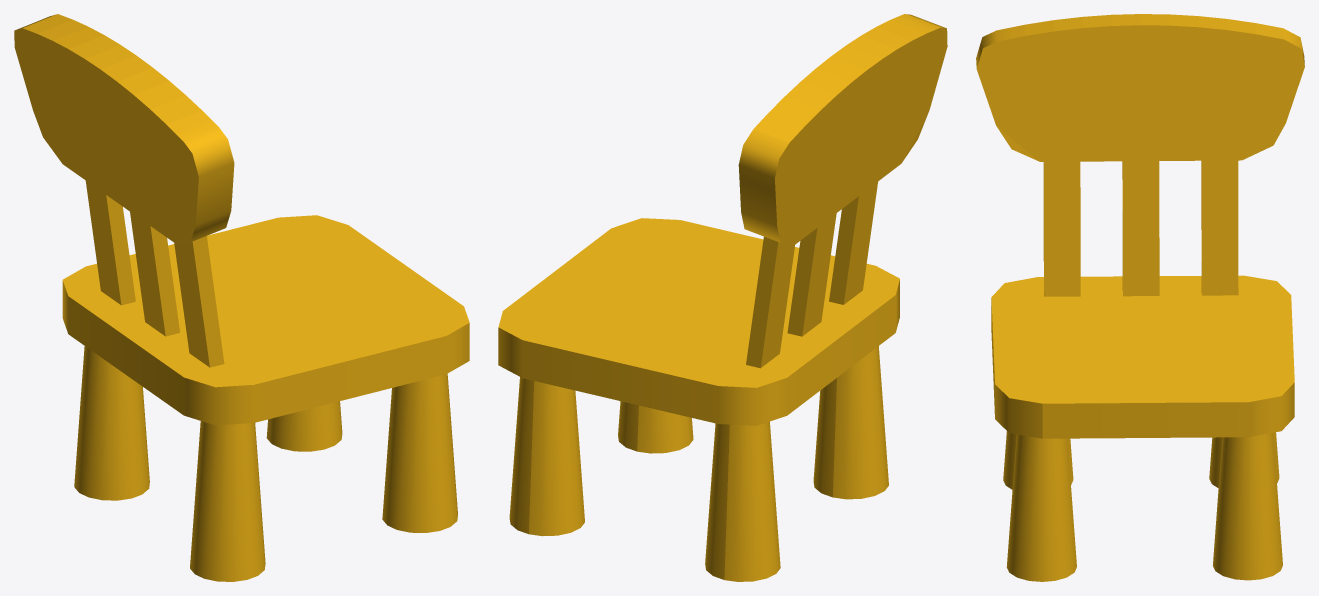
File: Chair_Toddler_1_Yellow_Mesh.fbx
3 views of the same model, side by side, from view 1: azimuth 30°, elevation 25°; view 2: azimuth 150°, elevation 25°; view 3: azimuth 270°, elevation 25° (orthographic). The views are drawn at different scales.
Parts seen in each view (by area): view 1: Chair1_Yellow; view 2: Chair1_Yellow; view 3: Chair1_Yellow.
Boxes of the visible parts, <box> form: Chair1_Yellow: <box>14,14,469,581</box>; Chair1_Yellow: <box>498,14,947,581</box>; Chair1_Yellow: <box>976,14,1304,581</box>.
Bounding box in the file's own units: 101 × 148 × 101.
